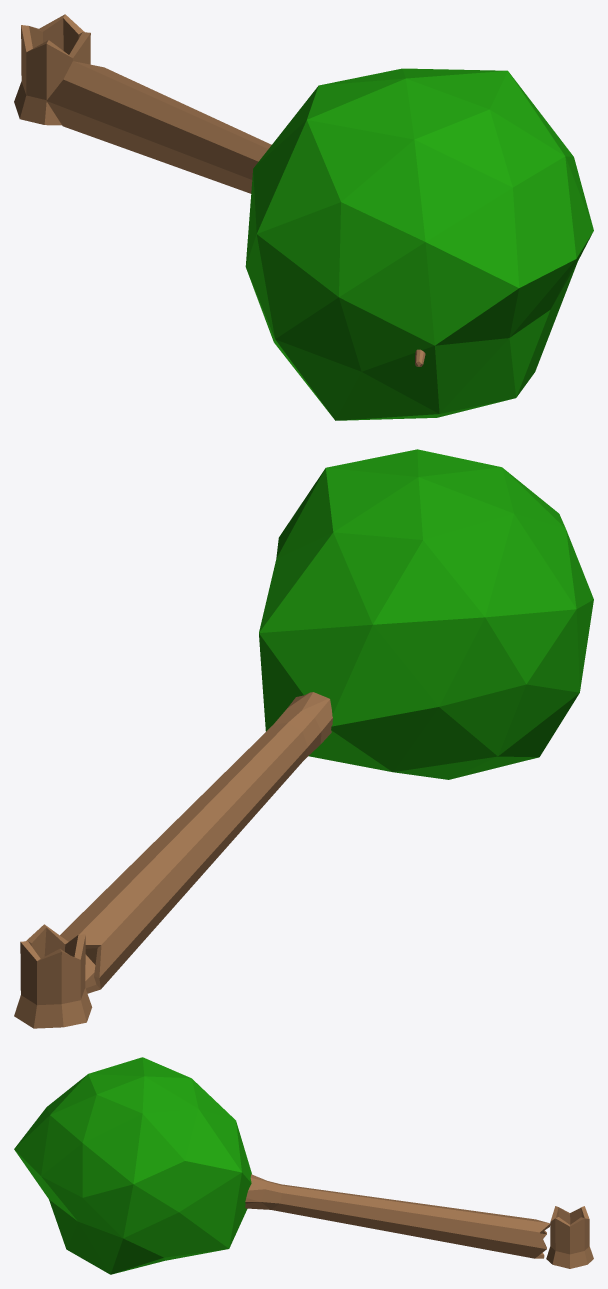
Rendered from Tree_8 Broken.fbx.
The picture shows the model from 3 angles, top to bottom: view 1: azimuth 30°, elevation 25°; view 2: azimuth 150°, elevation 25°; view 3: azimuth 270°, elevation 25°; orthographic projection. The views are drawn at different scales.
Visible parts, largest first — view 1: Tree8Broken_mesh; view 2: Tree8Broken_mesh; view 3: Tree8Broken_mesh.
Part boxes in pixels (x1=…): Tree8Broken_mesh: x1=14, y1=14, x2=593, y2=420; Tree8Broken_mesh: x1=14, y1=449, x2=593, y2=1028; Tree8Broken_mesh: x1=14, y1=1057, x2=593, y2=1274.
Bounding box in the file's own units: 207 × 197 × 569.
